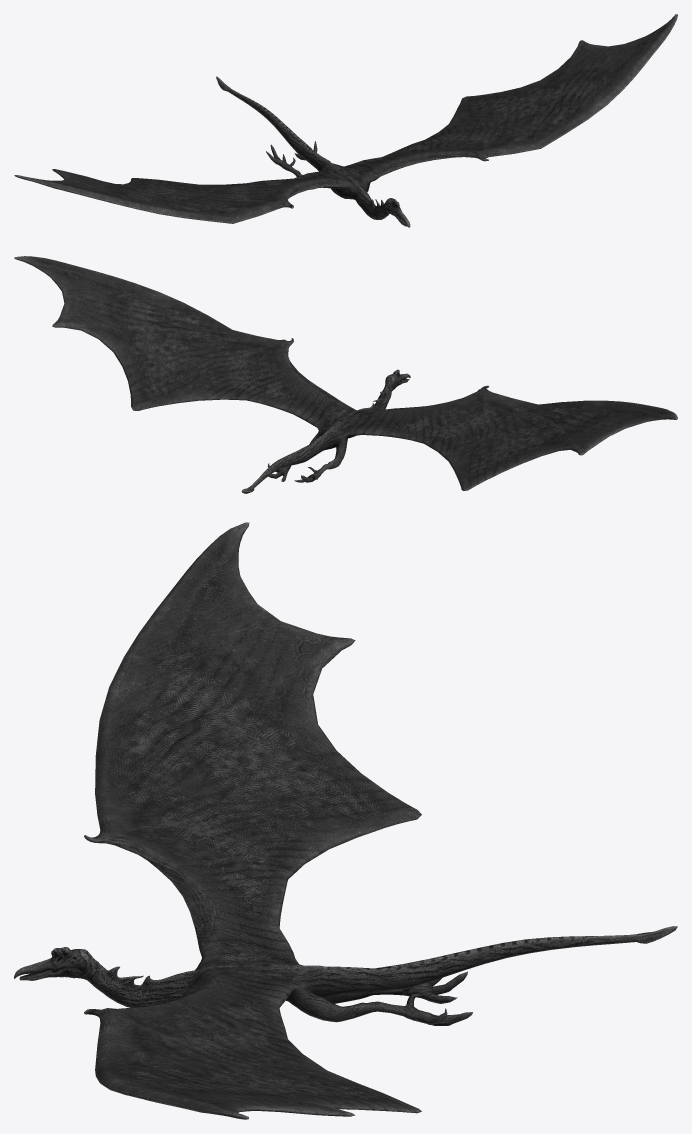
The model's file is Fellbeast_FlyAnim_18.obj.
The picture shows the model from 3 angles, top to bottom: view 1: azimuth 30°, elevation 25°; view 2: azimuth 150°, elevation 25°; view 3: azimuth 270°, elevation 25°; orthographic projection. The views are drawn at different scales.
Visible parts, largest first — view 1: Fellbeast; view 2: Fellbeast; view 3: Fellbeast.
Boxes of the visible parts, <box> form: Fellbeast: <box>14,14,677,227</box>; Fellbeast: <box>14,256,677,493</box>; Fellbeast: <box>14,522,677,1119</box>.
Size of the model in its own units: 9.25 by 1.44 by 4.36.
